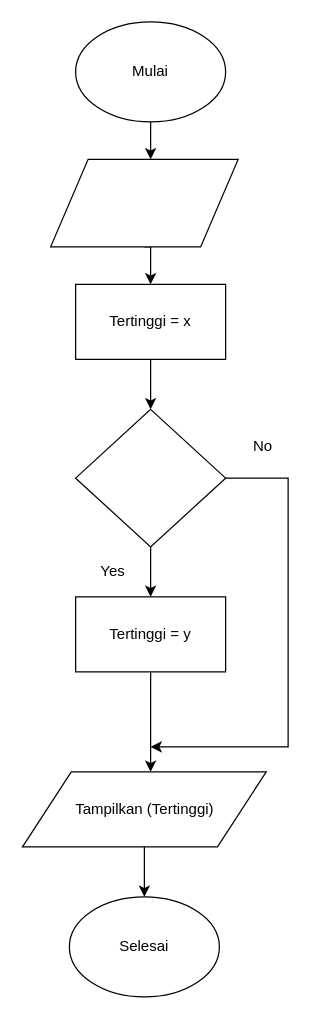
This 320x1019 diagram has some shape labels left out. The shapes that lost their labels are listed below. From the top down, each one's centre as x and y in pixels, then its label:
At point (143, 202): "masukkan x,y".
At point (150, 477): "Tertinggi < y".
